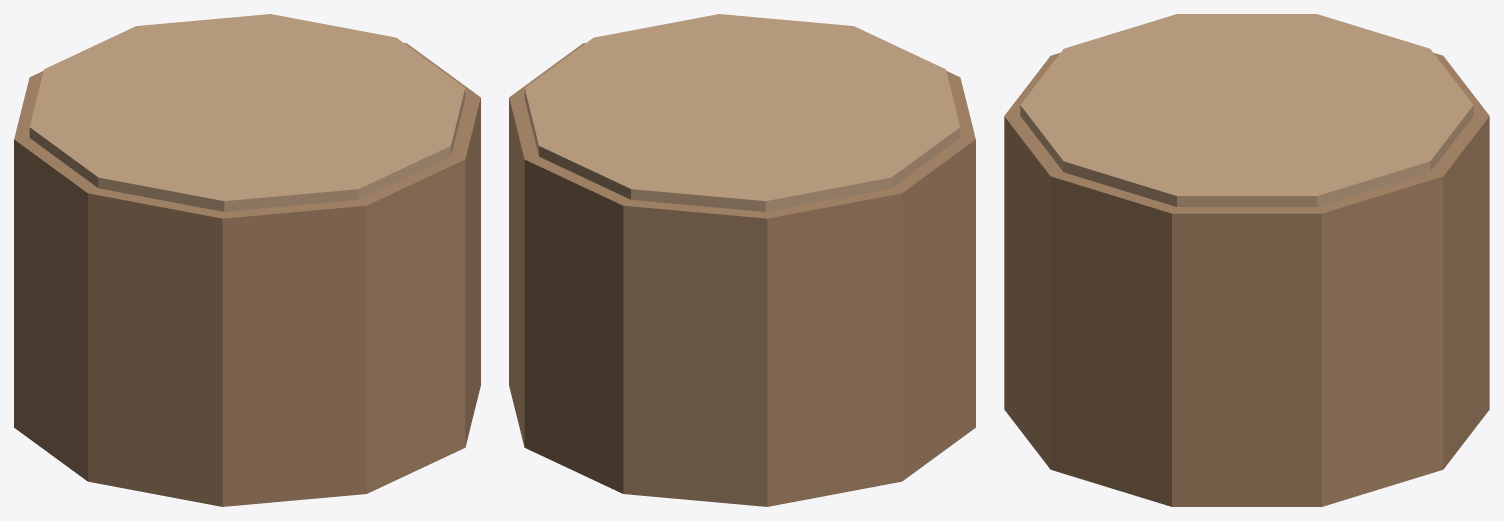
The model's file is camp-seat.glb.
The picture shows the model from 3 angles, left to right: view 1: azimuth 30°, elevation 25°; view 2: azimuth 150°, elevation 25°; view 3: azimuth 270°, elevation 25°; orthographic projection.
Parts seen in each view (by area): view 1: Log seat, Cut wood top; view 2: Log seat, Cut wood top; view 3: Log seat, Cut wood top.
Boxes of the visible parts, left/top/right/bottom form: Log seat: left=14, top=43, right=480, bottom=506; Cut wood top: left=29, top=14, right=465, bottom=211; Log seat: left=509, top=43, right=975, bottom=506; Cut wood top: left=524, top=14, right=960, bottom=211; Log seat: left=1004, top=52, right=1489, bottom=506; Cut wood top: left=1020, top=14, right=1473, bottom=206.
Size of the model in its own units: 0.856 by 0.6225 by 0.9.
